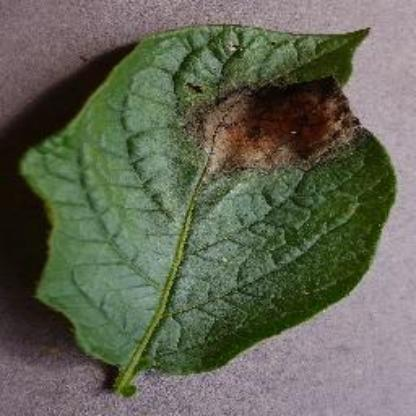Late-Blight: (14, 20, 394, 402)
